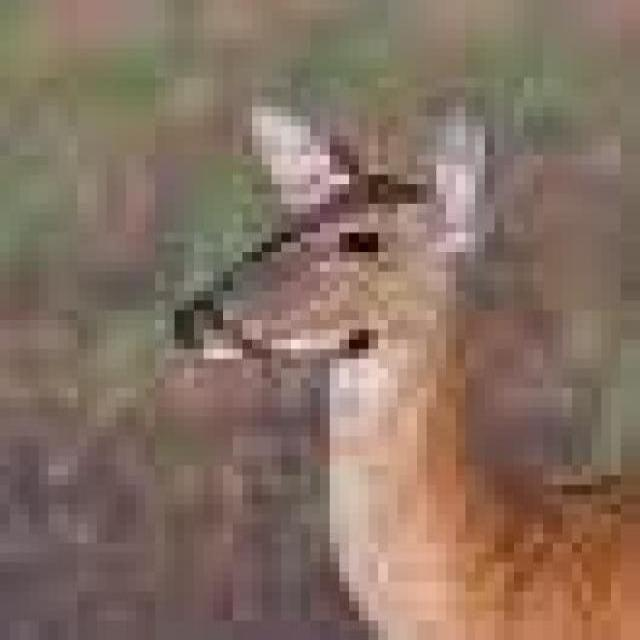deer: (160, 101, 635, 636)
